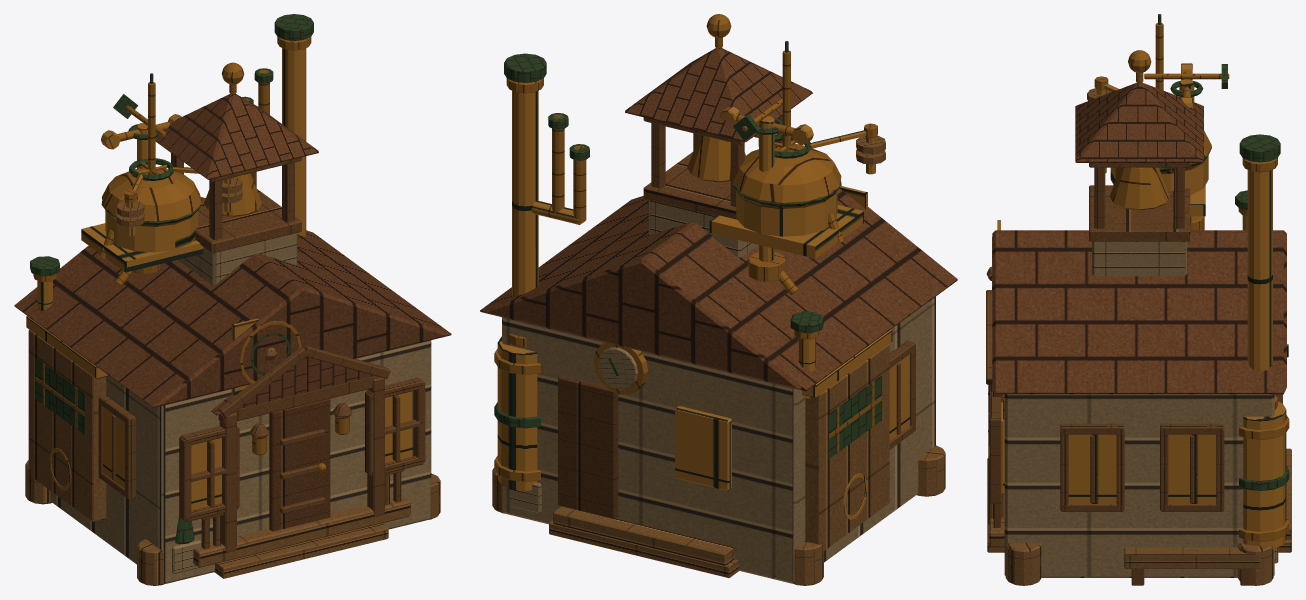
File: schoolhouse.e4.glb
3 views of the same model, side by side, from view 1: azimuth 30°, elevation 25°; view 2: azimuth 150°, elevation 25°; view 3: azimuth 270°, elevation 25° (orthographic). The views are drawn at different scales.
Visible parts, largest first — view 1: SchoolhouseE4; view 2: SchoolhouseE4; view 3: SchoolhouseE4.
Part boxes in pixels (x1=…): SchoolhouseE4: x1=14, y1=14, x2=451, y2=585; SchoolhouseE4: x1=480, y1=14, x2=957, y2=585; SchoolhouseE4: x1=986, y1=14, x2=1291, y2=585.
Bounding box in the file's own units: 3.96 × 5.6 × 3.38.
1 material, 1 textured.
